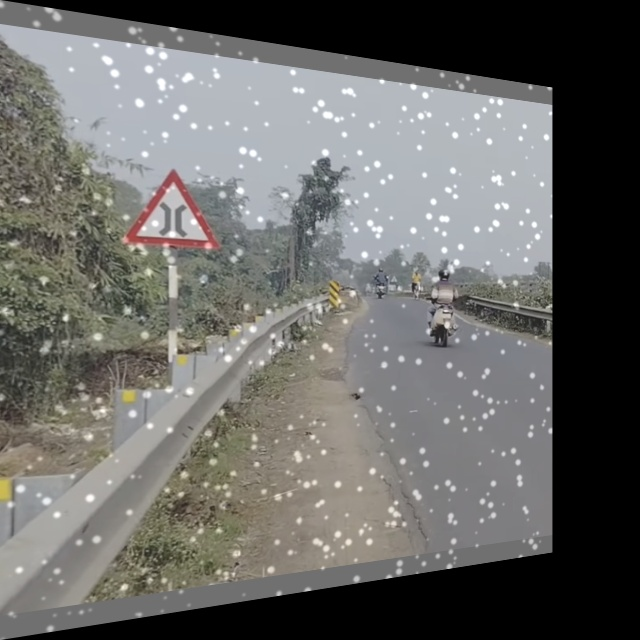Narrow_Bridge: (130, 166, 222, 252)
